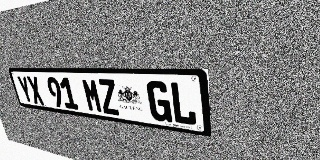1: (58, 77, 79, 110)
9: (45, 77, 65, 108)
G: (146, 81, 172, 123)
L: (169, 82, 197, 126)
M: (81, 78, 104, 113)
X: (26, 76, 45, 105)
Y: (16, 76, 34, 104)
Z: (97, 79, 120, 116)
